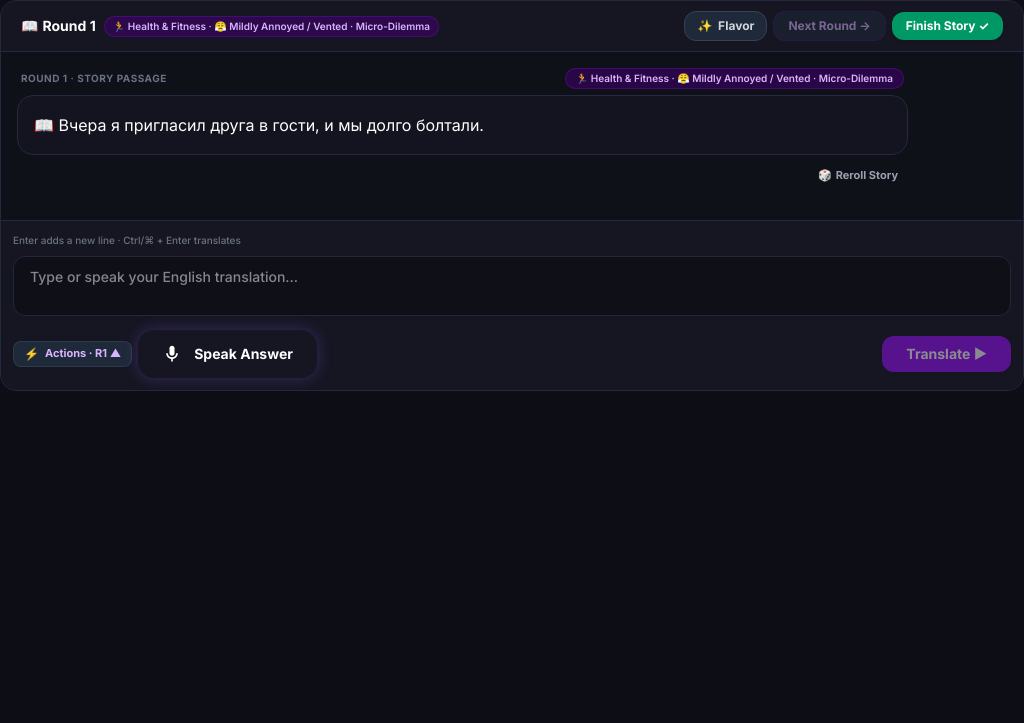
Test: TranslationStorySession Component › allows tuning story flavor mid-session and applies to next round
Check: the text "📖 Вчера я пригласил друга в гости, и мы долго болтали." is shown, box [34,115,484,135]
Click the button "✨ Flavor". click: point(726, 26)
box: [684,11,767,41]
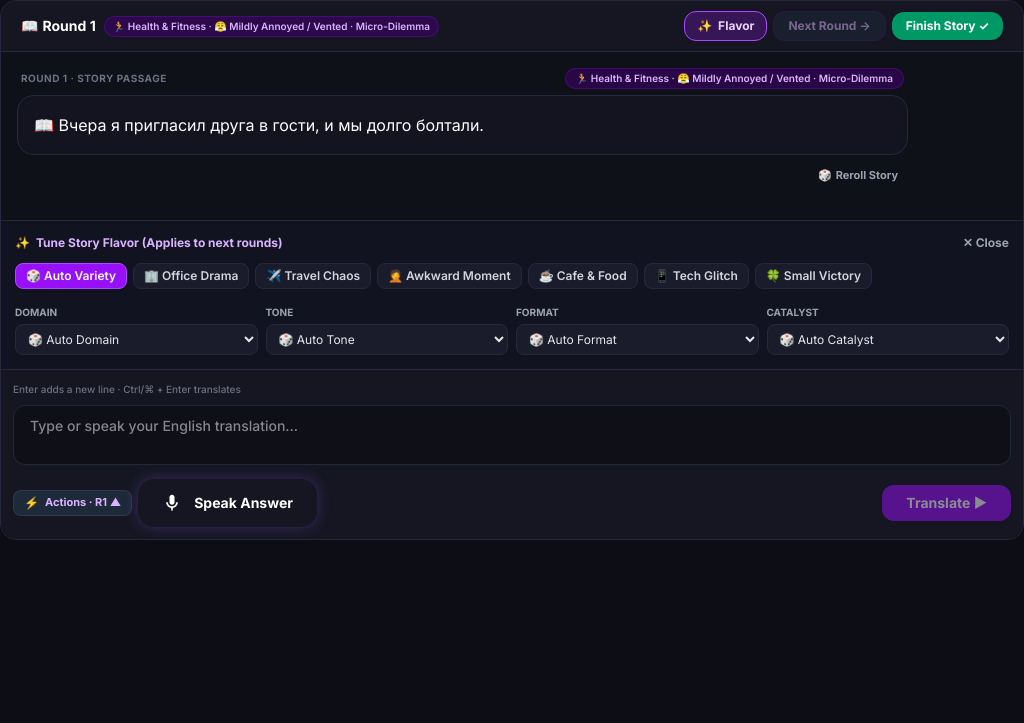
Check: the text "✨ Tune Story Flavor (Applies to next rounds)" is shown, box [15,234,282,250]
Click the button "🏢 Office Drama". click: point(191, 276)
box: [133,262,249,288]
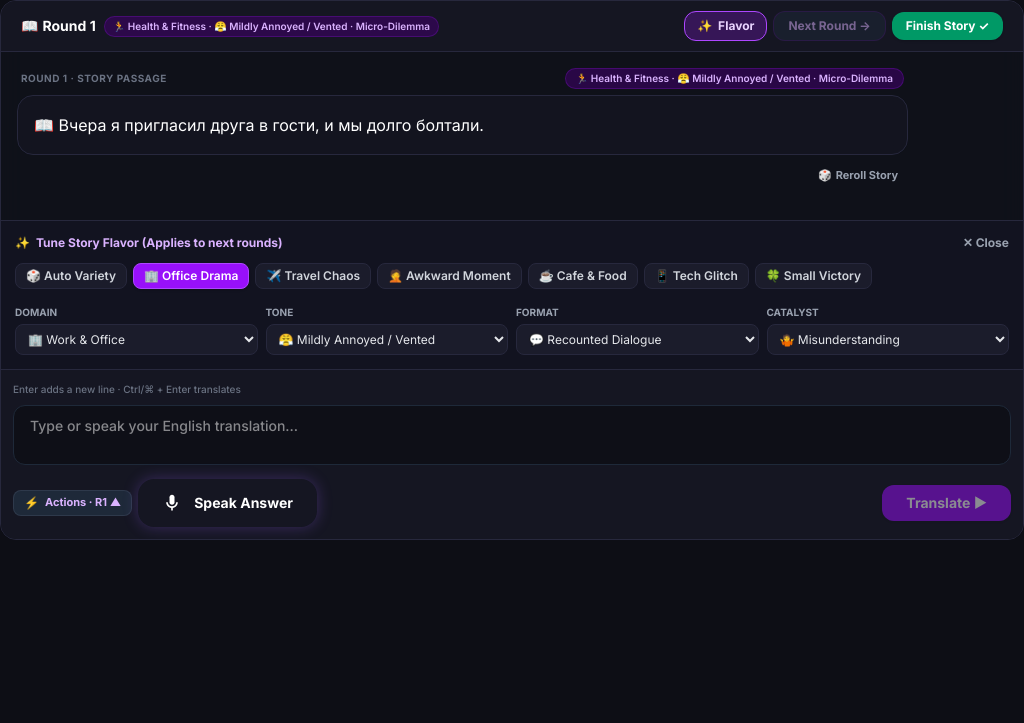
Type "Yesterday I invited a friend over." into the text box with placeholder "Type or speak your English translation...". click: point(512, 434)
box: [13,404,1011,464]
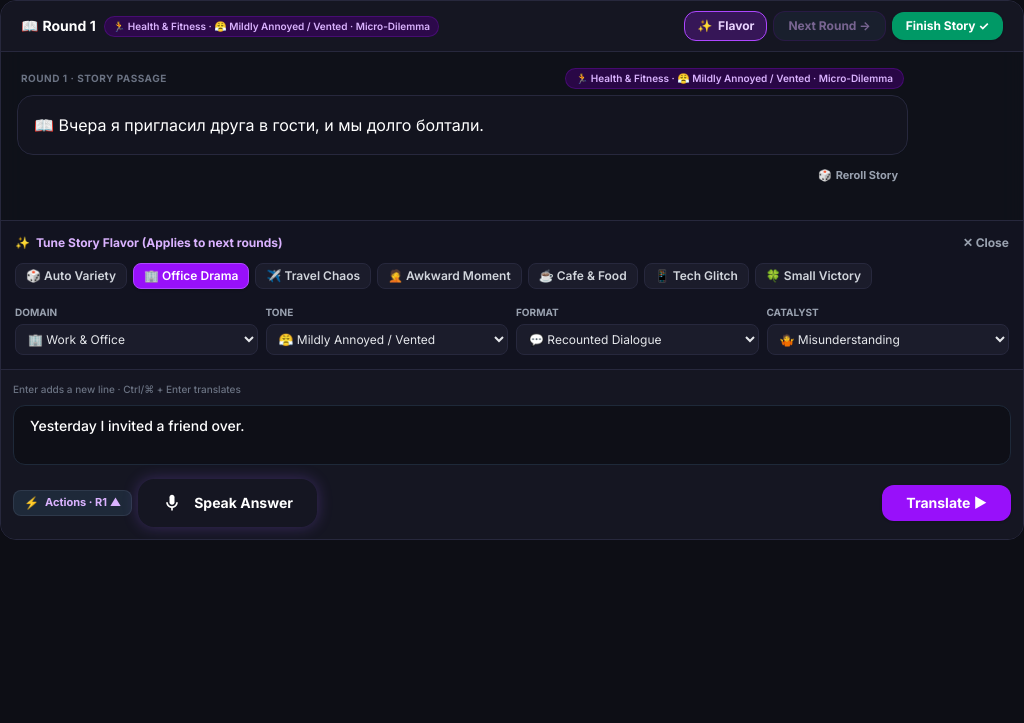
Click the button "Translate ▶". click: point(947, 502)
box: [882,484,1011,520]
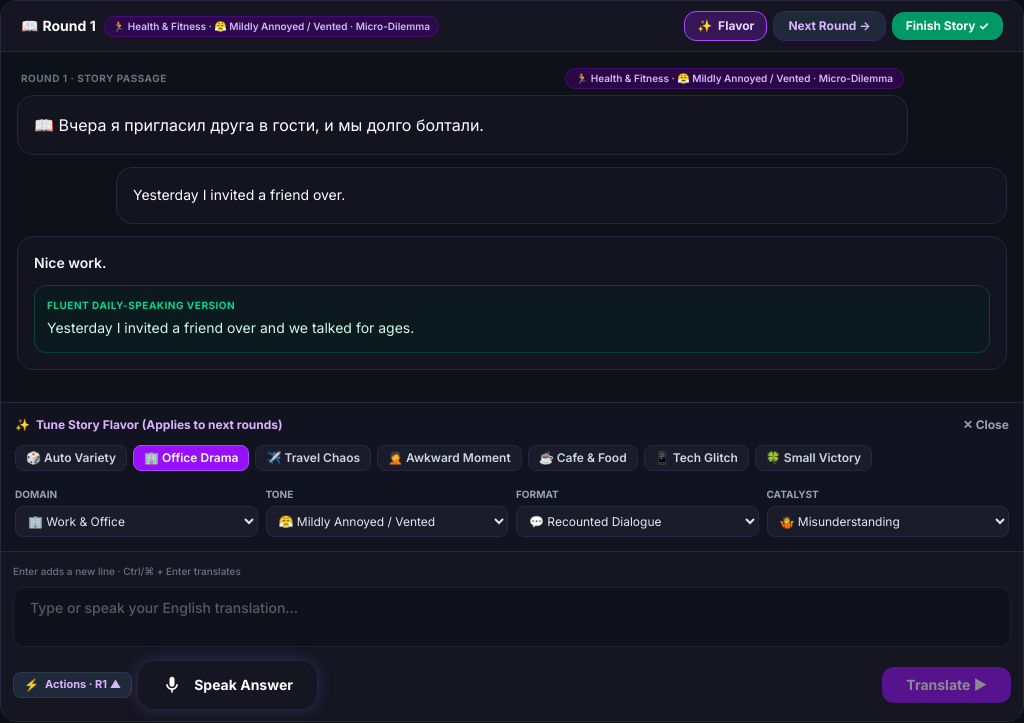
Check: the element with test id "story-feedback" is shown, box [17,236,1007,370]
Click the button "Next Round →". click: point(830, 26)
box: [773,11,886,41]
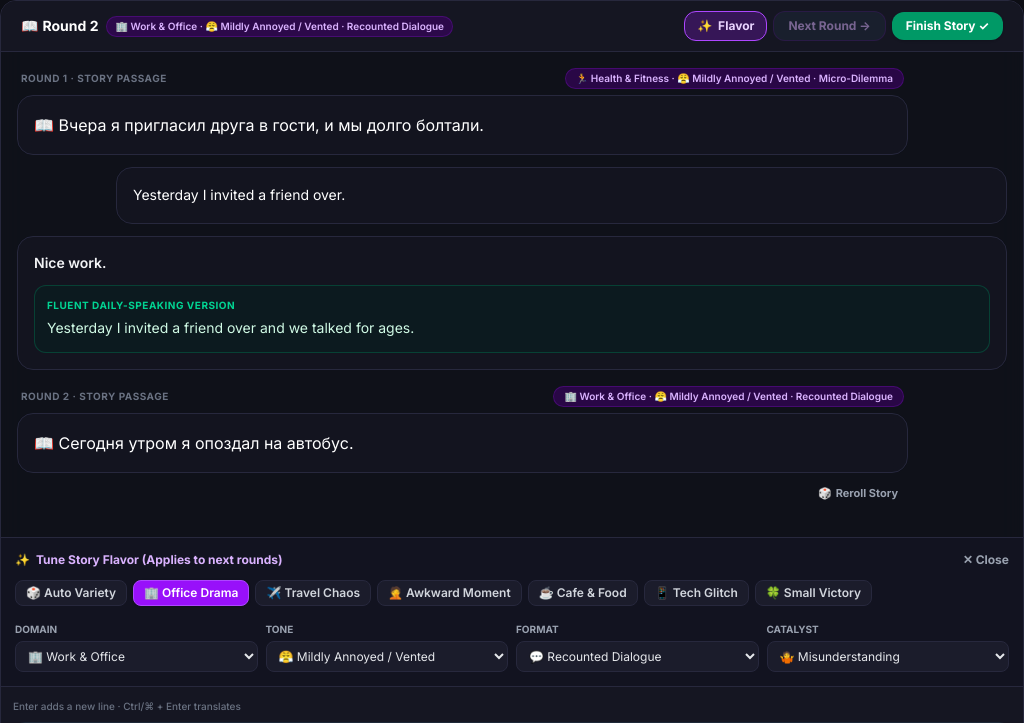
Check: the text "📖 Сегодня утром я опоздал на автобус." is shown, box [34,432,354,452]
